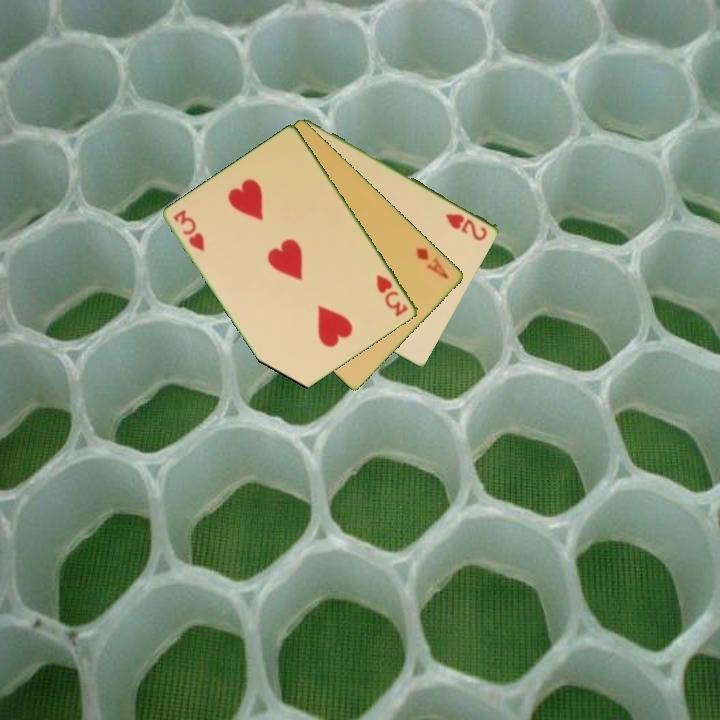2h: (442, 210, 491, 244)
3h: (373, 271, 411, 320), (170, 206, 208, 254)
Ad: (413, 243, 452, 282)
